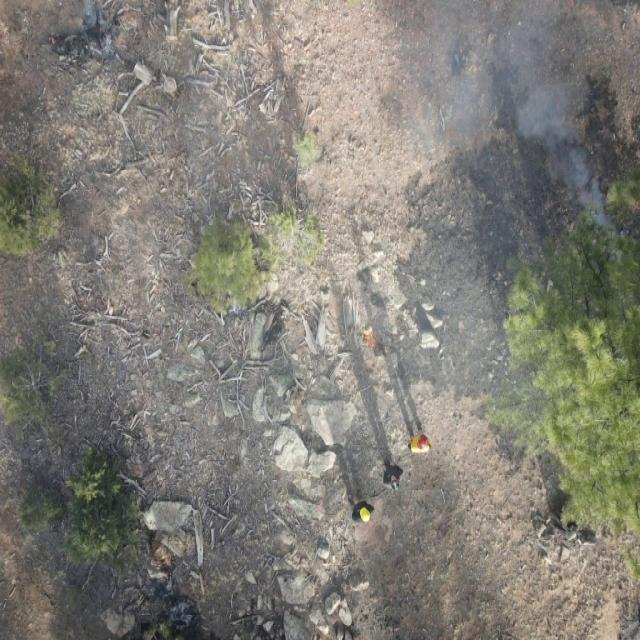fire: (356, 323, 384, 357), (150, 548, 170, 572), (96, 27, 110, 44), (47, 33, 60, 46)
smoke: (410, 1, 590, 151), (534, 140, 622, 251), (42, 0, 118, 62)
